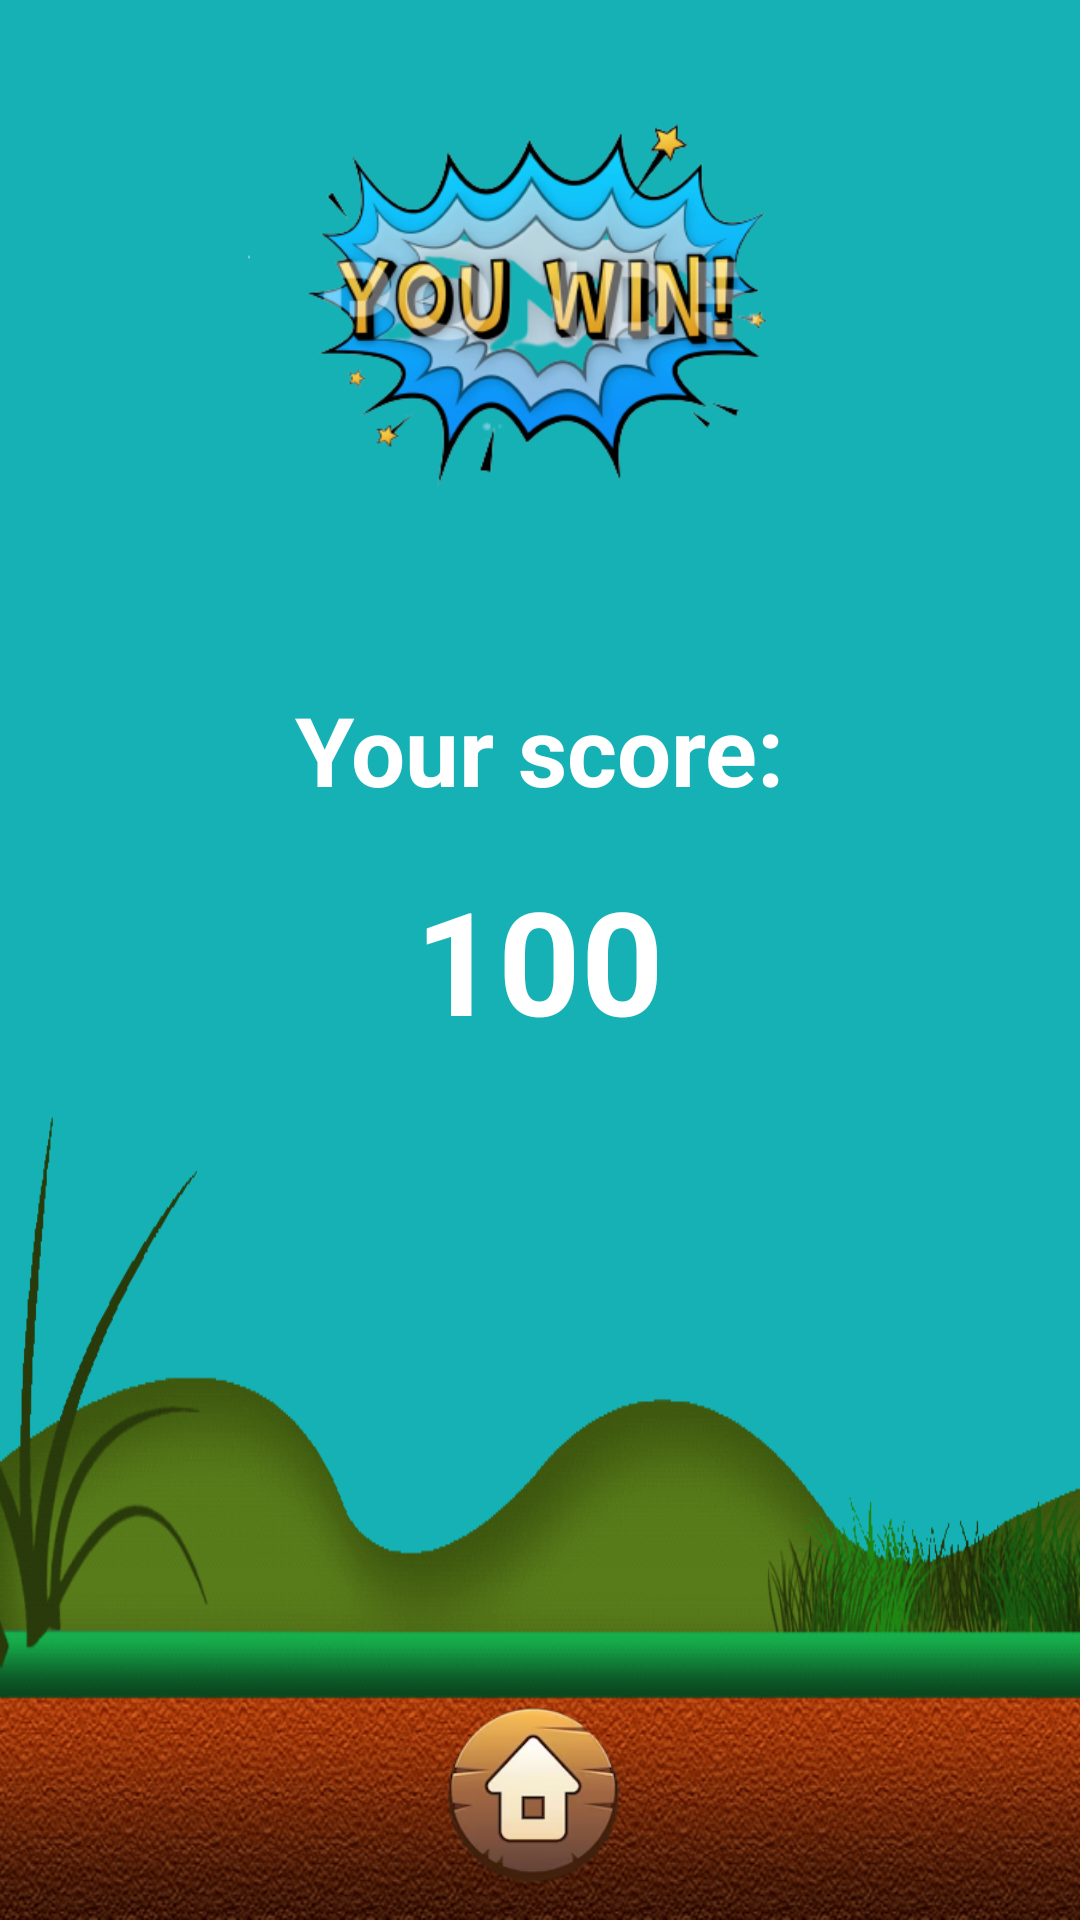

Where to tap for icons on this 1080w x 1920h app screen, as (x=x, y=y):
home: (x=540, y=1791)
